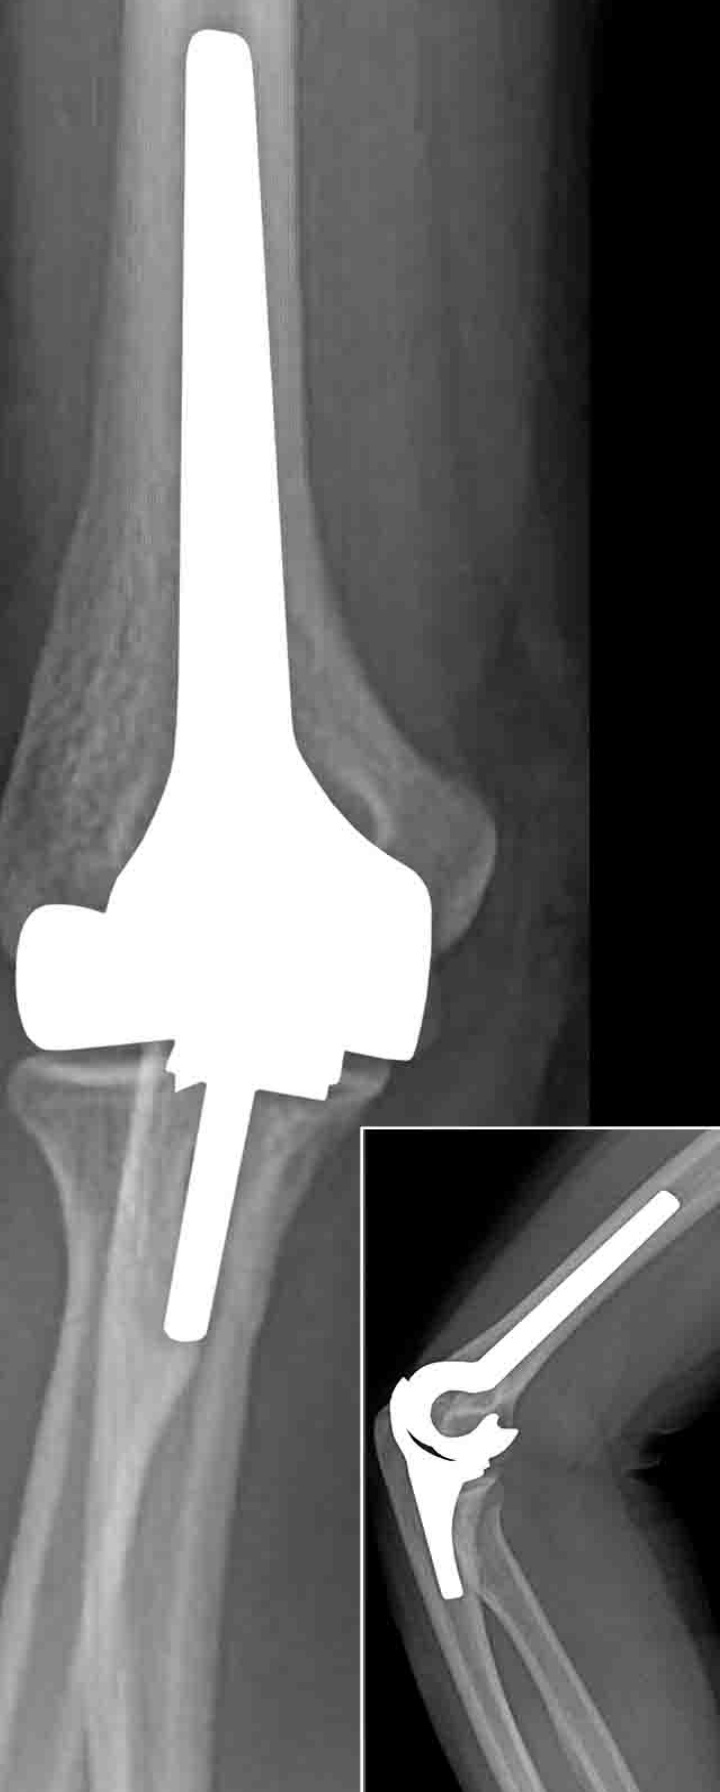Elbow - IBP - Biomet: (8, 21, 461, 1354), (383, 1177, 681, 1611)
